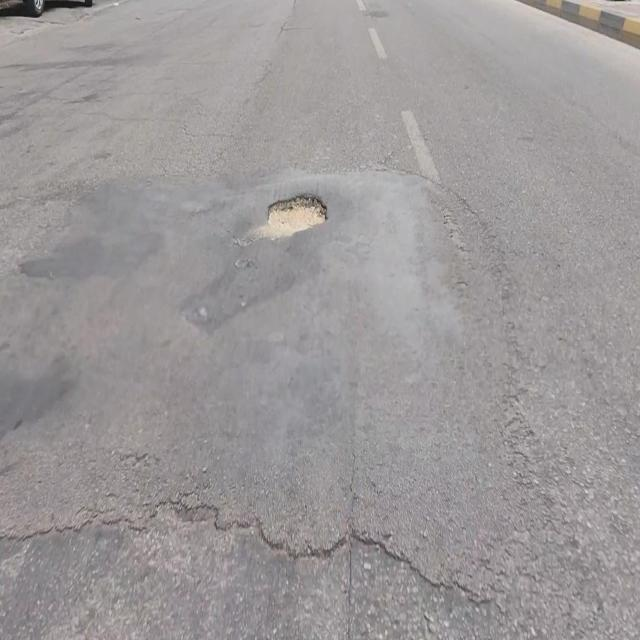Potholes: (265, 191, 329, 243)
